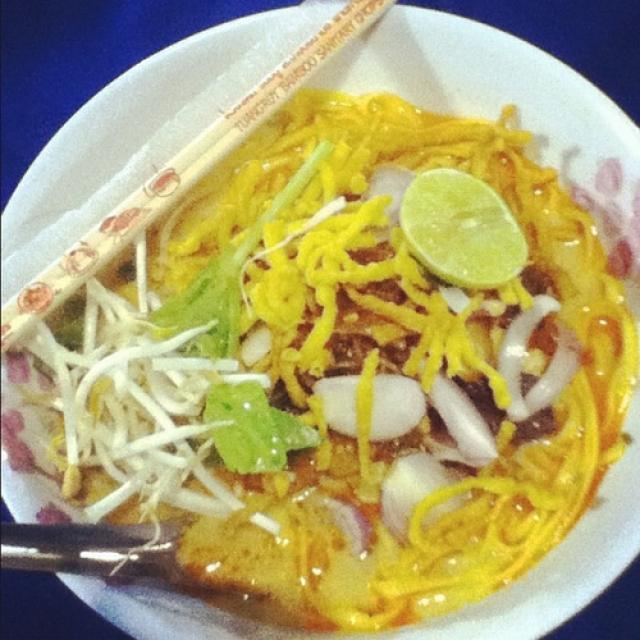面条主食: (19, 47, 624, 624)
